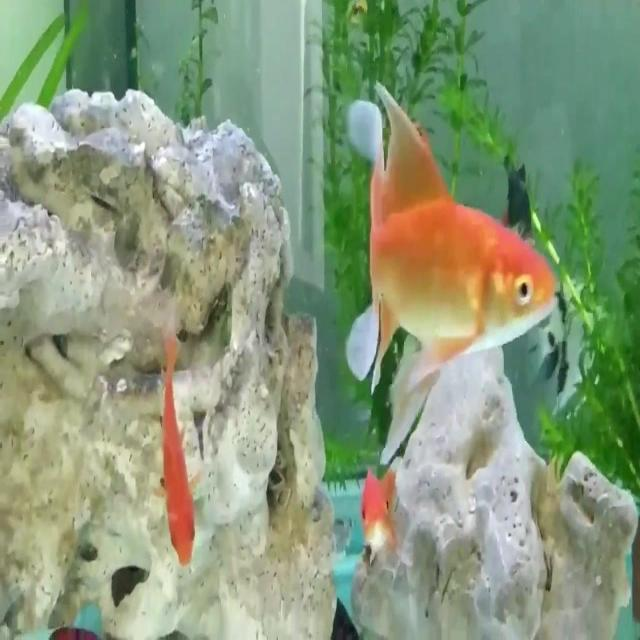GoldFish: (344, 77, 566, 425), (153, 326, 200, 592), (349, 454, 409, 581)
